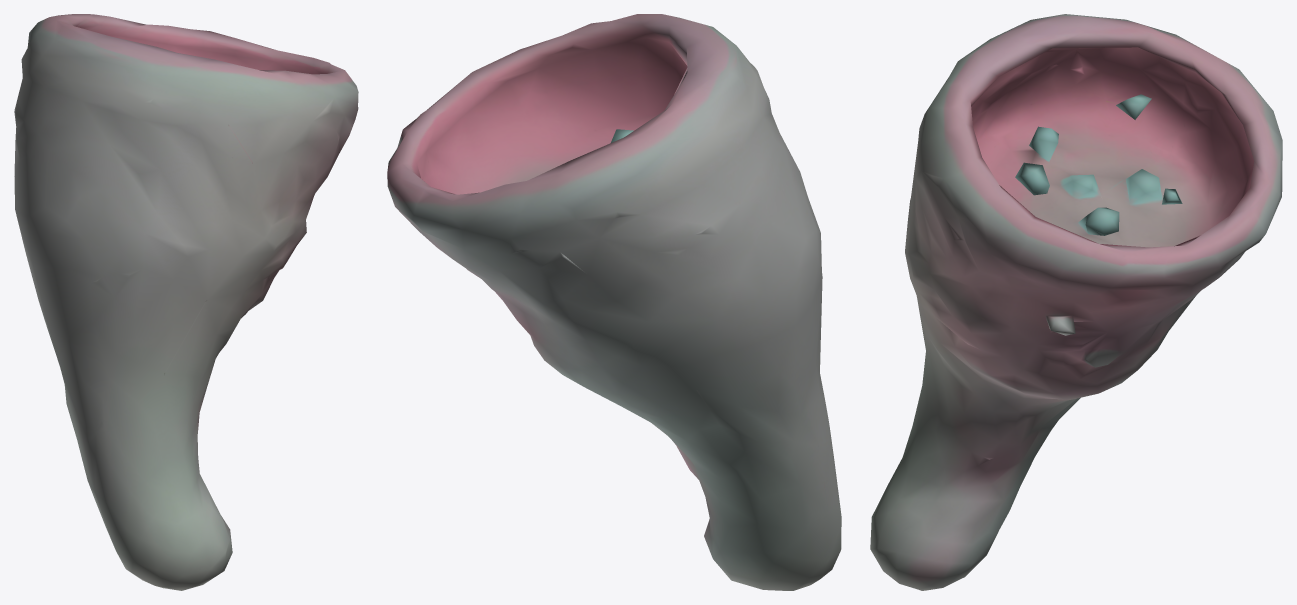
Rendered from goblet.glb.
3 views of the same model, side by side, from view 1: azimuth 30°, elevation 25°; view 2: azimuth 150°, elevation 25°; view 3: azimuth 270°, elevation 25° (orthographic). The views are drawn at different scales.
Parts seen in each view (by area): view 1: goblet; view 2: goblet; view 3: goblet.
Boxes of the visible parts, left/top/right/bottom form: goblet: left=14, top=14, right=358, bottom=590; goblet: left=387, top=14, right=841, bottom=590; goblet: left=870, top=14, right=1282, bottom=590.
Bounding box in the file's own units: 1.27 × 1.89 × 1.27.
Materials: 1 (1 with a texture image).
